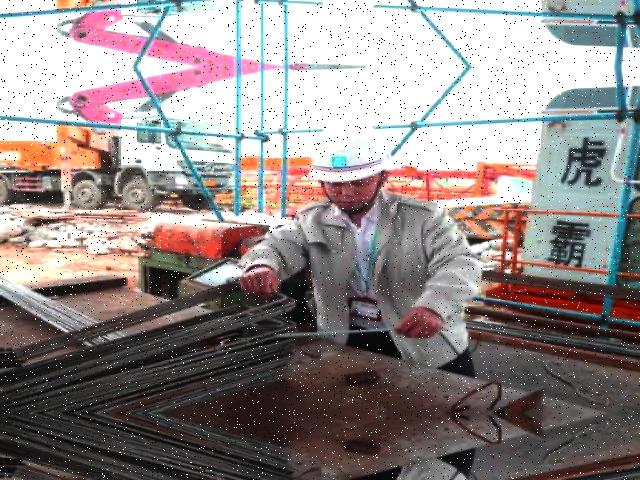Helmet: (304, 115, 391, 188)
